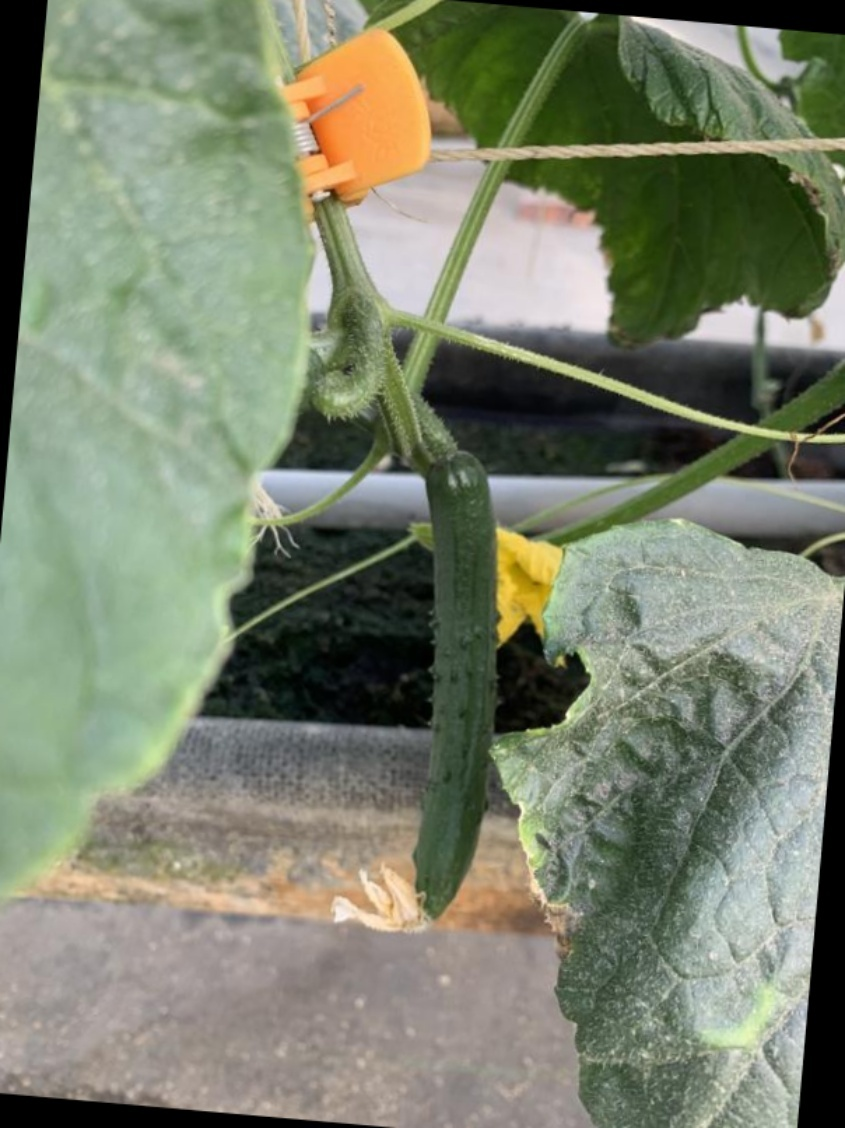mature: (399, 445, 511, 932)
